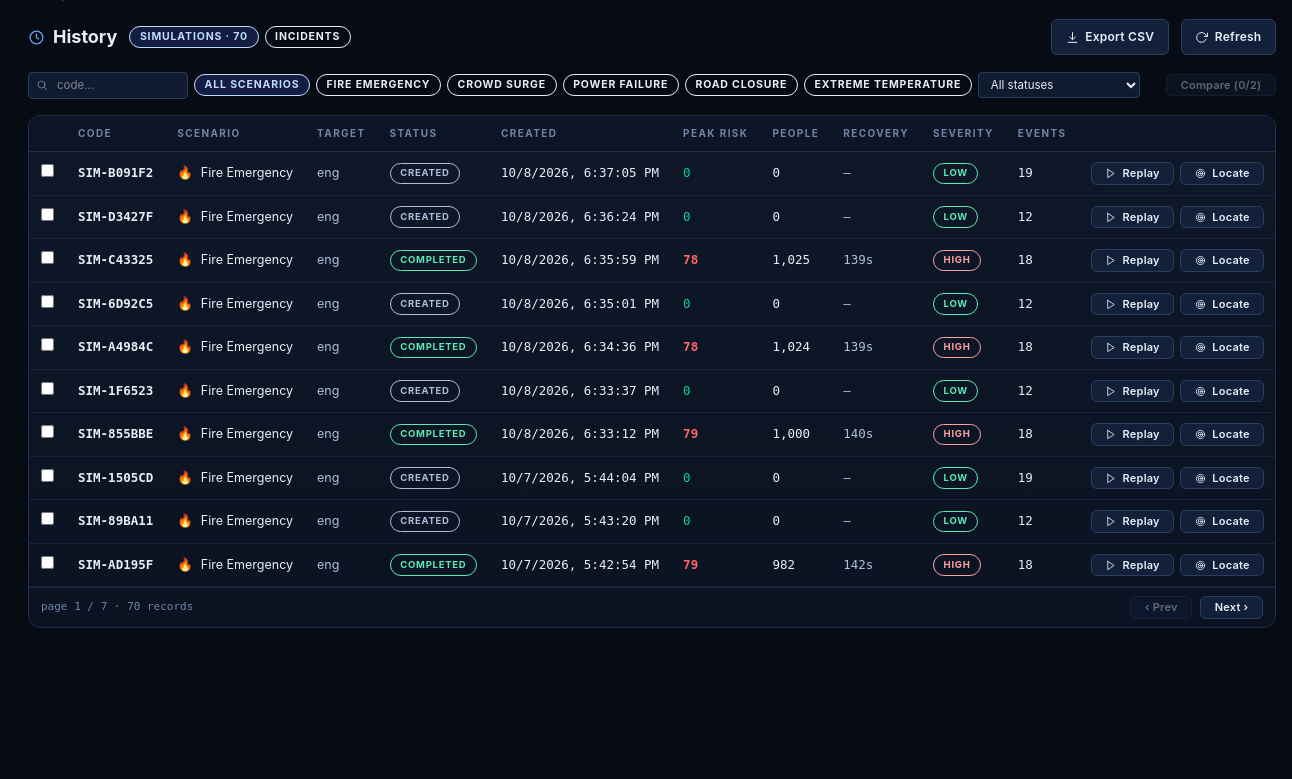
Test case: History §62 — simulations tab › opens the simulation drawer with metrics, events and incident links
Click the row that starts with "SIM-C43325" at (653, 261), box [29, 239, 1276, 282]
(page scrolled)
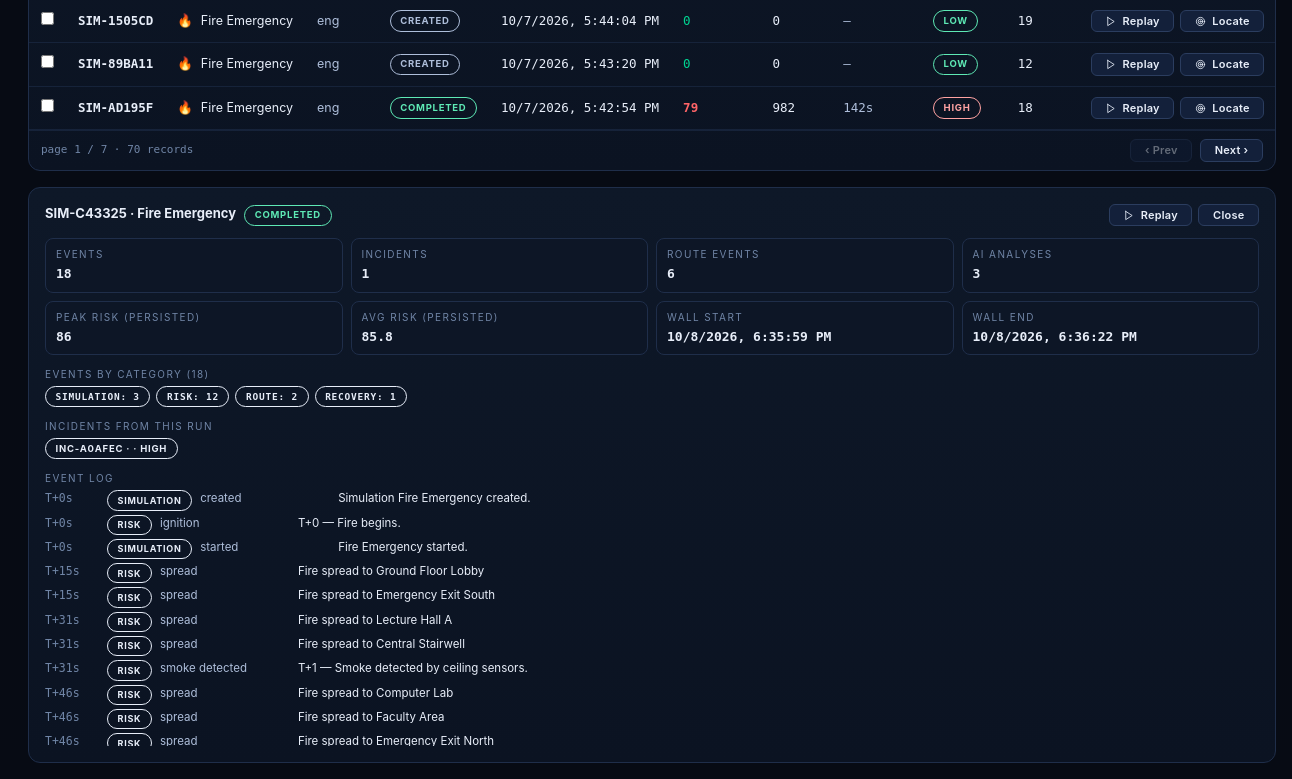
Check: the element with test id "simulation-drawer" is shown
Check: the heading "SIM-C43325 · Fire Emergency" is shown, box [45, 204, 236, 224]
Check: the text "Fire spread to Ground Floor Lobby" is shown, box [298, 563, 484, 584]
